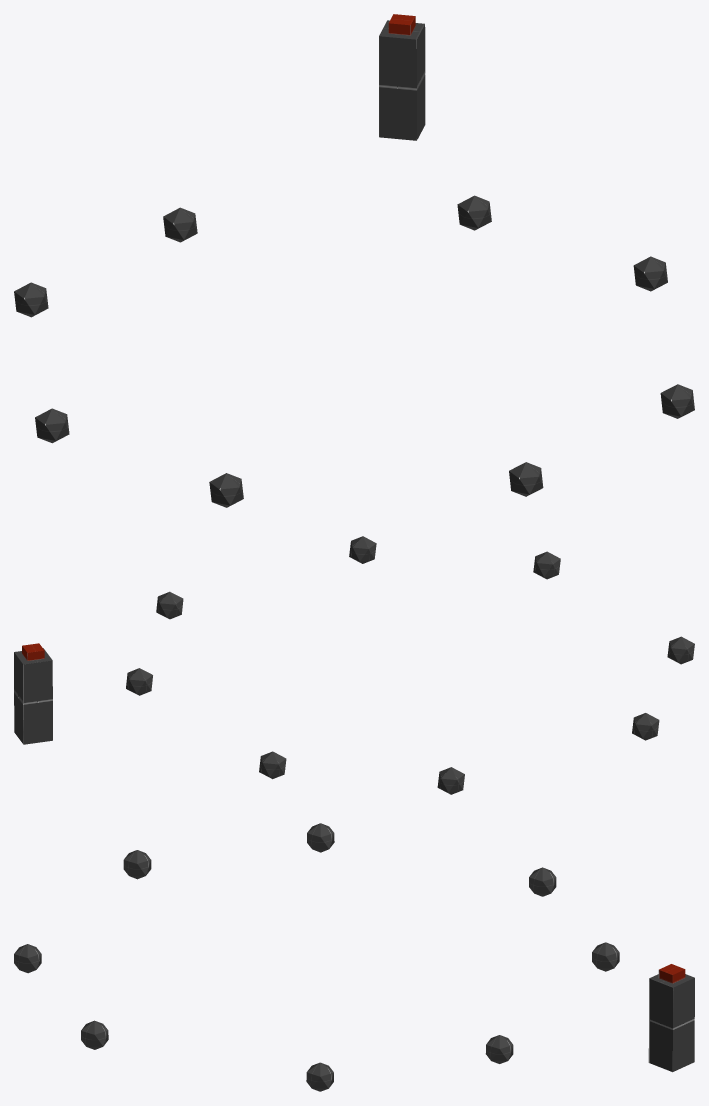
File: imp arena.glb
The picture shows the model from 3 angles, top to bottom: view 1: azimuth 30°, elevation 25°; view 2: azimuth 150°, elevation 25°; view 3: azimuth 270°, elevation 25°; orthographic projection. The views are drawn at different scales.
Visible parts, largest first — view 1: Button.001, Rock.007, Rock, Rock.001, Rock.004, Rock.006, Rock.005, Rock.002, Rock.003; view 2: Button.001, Rock.001, Rock.003, Rock.002, Rock.004, Rock.006, Rock.005, Rock, Rock.007; view 3: Button.001, Rock.004, Rock.001, Rock.003, Rock.005, Rock.006, Rock, Rock.007, Rock.002.
Part boxes in pixels (left/top/right/bottom): Button.001: left=379, top=14, right=425, bottom=140; Rock.007: left=163, top=207, right=197, bottom=242; Rock: left=457, top=195, right=491, bottom=230; Rock.001: left=633, top=256, right=667, bottom=291; Rock.004: left=209, top=473, right=243, bottom=507; Rock.006: left=14, top=282, right=48, bottom=317; Rock.005: left=35, top=408, right=69, bottom=443; Rock.002: left=660, top=384, right=694, bottom=418; Rock.003: left=509, top=462, right=543, bottom=496; Button.001: left=14, top=643, right=52, bottom=744; Rock.001: left=156, top=591, right=183, bottom=619; Rock.003: left=533, top=551, right=560, bottom=579; Rock.002: left=349, top=536, right=376, bottom=563; Rock.004: left=667, top=636, right=694, bottom=664; Rock.006: left=437, top=767, right=464, bottom=794; Rock.005: left=632, top=713, right=659, bottom=740; Rock: left=126, top=668, right=152, bottom=695; Rock.007: left=259, top=751, right=286, bottom=779; Button.001: left=648, top=964, right=694, bottom=1072; Rock.004: left=123, top=850, right=151, bottom=879; Rock.001: left=306, top=1062, right=333, bottom=1091; Rock.003: left=14, top=944, right=41, bottom=973; Rock.005: left=307, top=823, right=334, bottom=852; Rock.006: left=529, top=867, right=556, bottom=896; Rock: left=485, top=1035, right=513, bottom=1063; Rock.007: left=592, top=942, right=619, bottom=971; Rock.002: left=81, top=1020, right=108, bottom=1049.
Size of the model in its own units: 6.34 by 1.29 by 7.11.
Materials: 3 (3 with a texture image).
